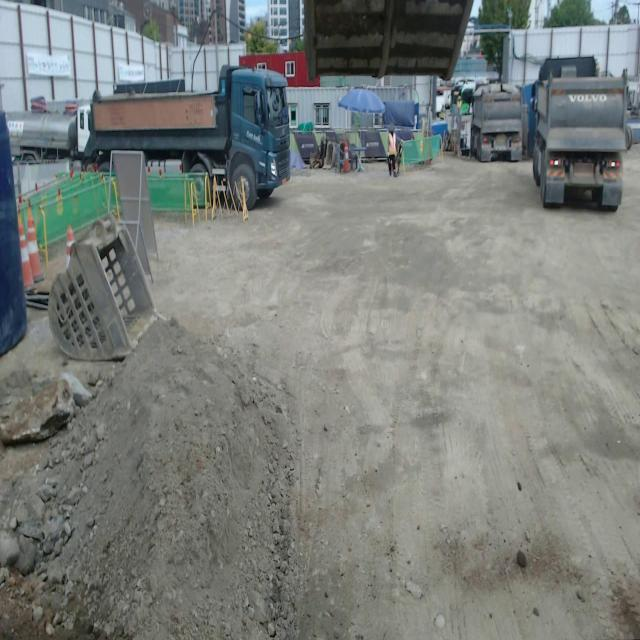stone: (0, 369, 82, 446)
white-sand: (152, 152, 640, 639), (37, 321, 307, 639)
